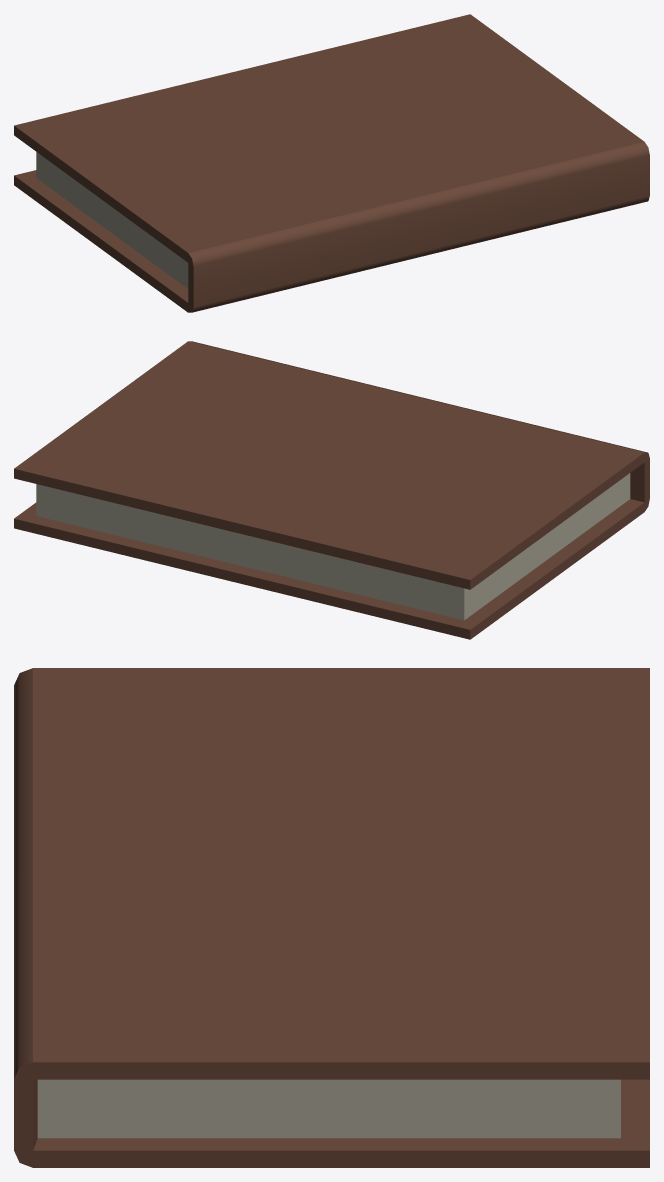
File: book.fbx
3 views of the same model, one above another, from view 1: azimuth 30°, elevation 25°; view 2: azimuth 150°, elevation 25°; view 3: azimuth 270°, elevation 25° (orthographic). The views are drawn at different scales.
Visible parts, largest first — view 1: bookMesh; view 2: bookMesh; view 3: bookMesh.
Boxes of the visible parts, bbox=[...] form: bookMesh: bbox=[14, 14, 649, 312]; bookMesh: bbox=[14, 341, 649, 639]; bookMesh: bbox=[14, 668, 649, 1167].
Size of the model in its own units: 16 by 2 by 10.91.
